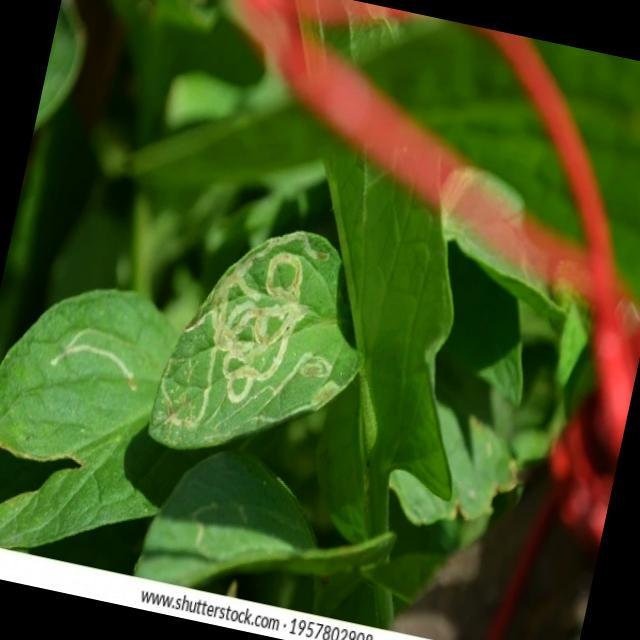Tomato target spot leaf: (136, 206, 388, 487), (133, 434, 407, 626), (0, 264, 182, 477)
